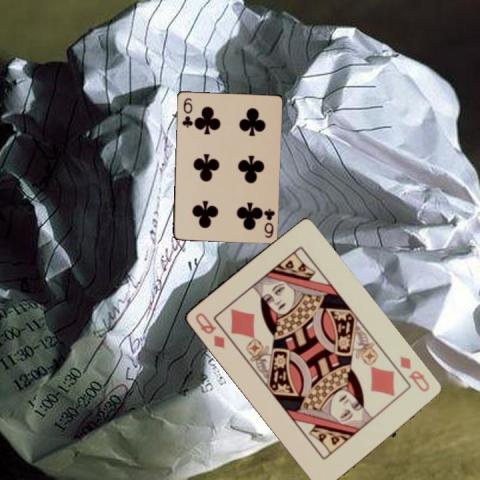6c: (261, 205, 276, 239), (180, 95, 194, 128)
Qd: (191, 309, 226, 350), (396, 354, 431, 393)
